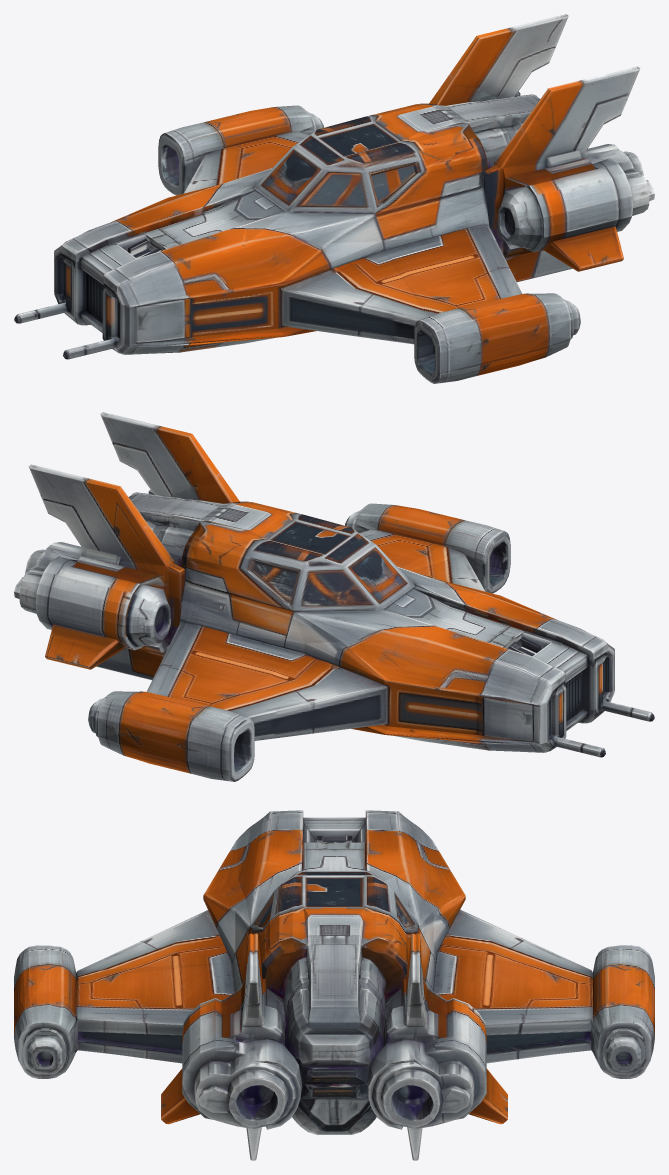
File: Meshy_AI_Emerald_Void_Intercep_0714135918_texture.glb
The picture shows the model from 3 angles, top to bottom: view 1: azimuth 30°, elevation 25°; view 2: azimuth 150°, elevation 25°; view 3: azimuth 270°, elevation 25°; orthographic projection. The views are drawn at different scales.
Bounding box in the file's own units: 1.91 × 0.6106 × 1.66.
1 material, 1 textured.
